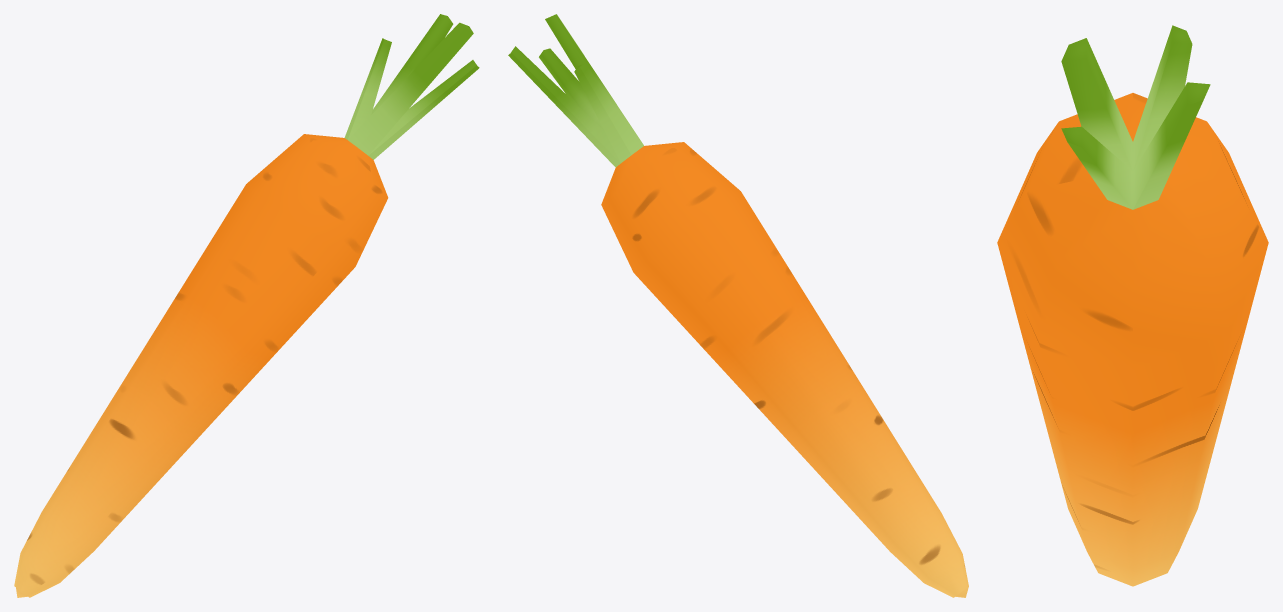
3 renders of one model, left to right at view 1: azimuth 30°, elevation 25°; view 2: azimuth 150°, elevation 25°; view 3: azimuth 270°, elevation 25°, orthographic. The views are drawn at different scales.
Parts seen in each view (by area): view 1: Carrot_0; view 2: Carrot_0; view 3: Carrot_0.
Part boxes in pixels (<box>): Carrot_0: <box>14,14,479,597</box>; Carrot_0: <box>508,14,968,597</box>; Carrot_0: <box>997,25,1268,586</box>.
Size of the model in its own units: 343 by 349 by 90.82.
